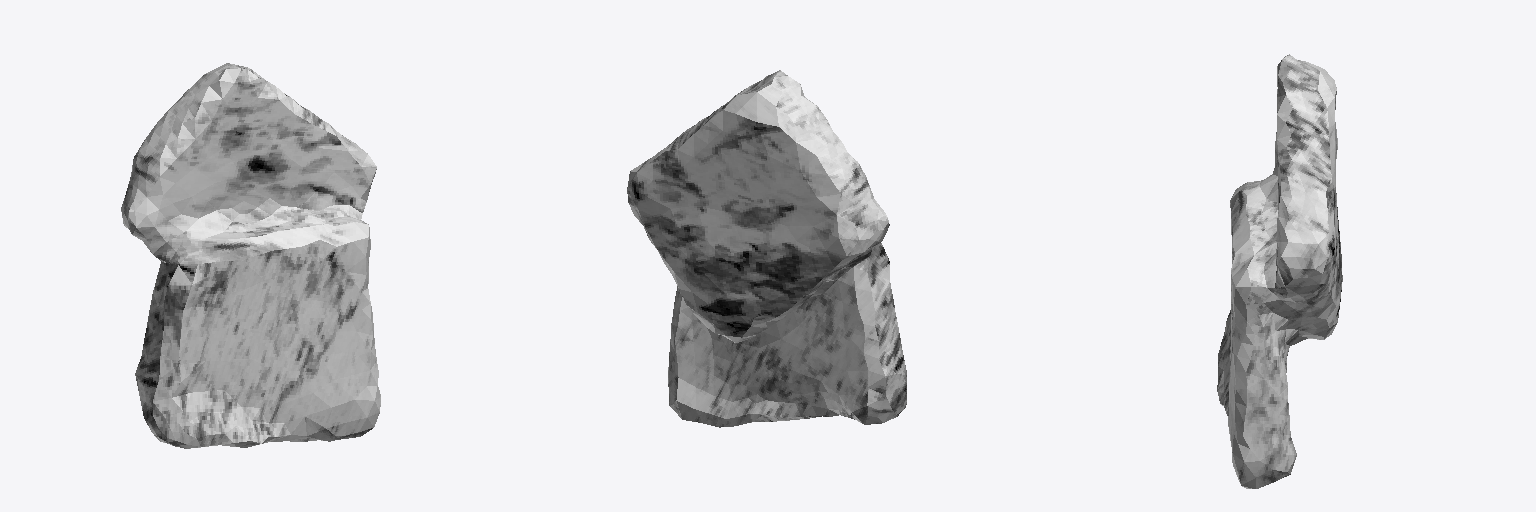
3 renders of one model, left to right at view 1: azimuth 30°, elevation 25°; view 2: azimuth 150°, elevation 25°; view 3: azimuth 270°, elevation 25°, orthographic.
Parts seen in each view (by area): view 1: plataforma_3_Stone_C; view 2: plataforma_3_Stone_C; view 3: plataforma_3_Stone_C.
Boxes of the visible parts, x1,y1,x2,y2 form: plataforma_3_Stone_C: [121, 63, 380, 448]; plataforma_3_Stone_C: [627, 70, 906, 427]; plataforma_3_Stone_C: [1217, 54, 1342, 488].
Bounding box in the file's own units: 2.21 × 3.24 × 0.97.
1 materials, 1 textured.